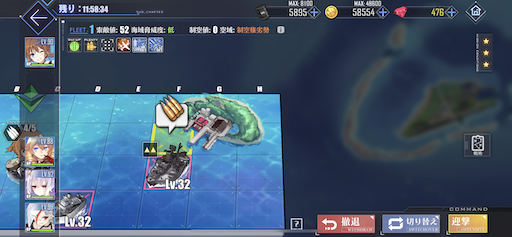lv2: (142, 141, 192, 188)
